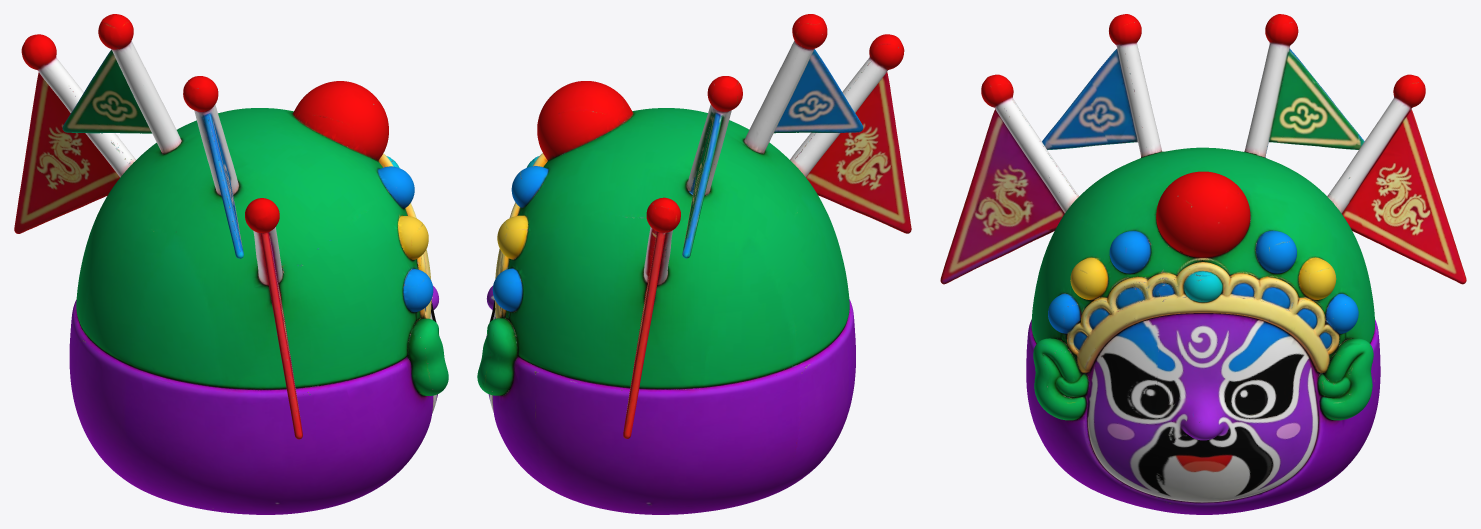
The model's file is 紫色变脸.glb.
3 views of the same model, side by side, from view 1: azimuth 30°, elevation 25°; view 2: azimuth 150°, elevation 25°; view 3: azimuth 270°, elevation 25° (orthographic). The views are drawn at different scales.
Visible parts, largest first — view 1: mesh; view 2: mesh; view 3: mesh.
Part boxes in pixels (x1,y1,x2,y2): mesh: (14, 14, 448, 514); mesh: (477, 14, 911, 514); mesh: (940, 14, 1466, 514).
Size of the model in its own units: 1.38 by 1.75 by 2.
Materials: 1 (1 with a texture image).
